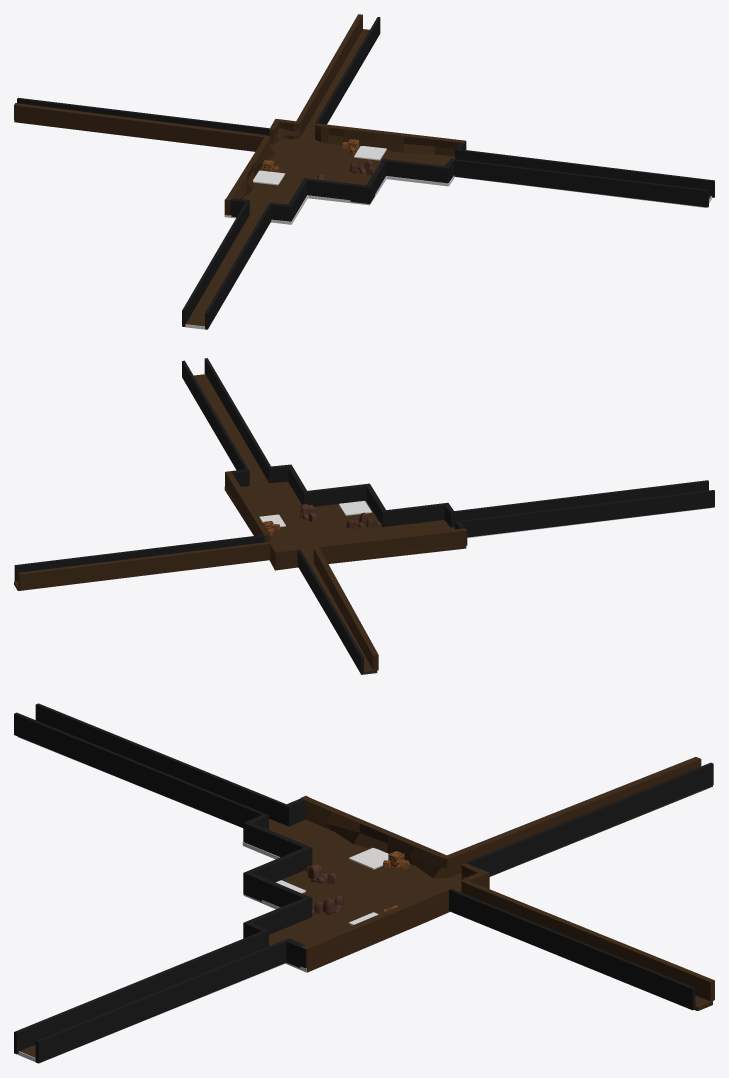
The model's file is sala13DET.fbx.
3 views of the same model, one above another, from view 1: azimuth 30°, elevation 25°; view 2: azimuth 150°, elevation 25°; view 3: azimuth 270°, elevation 25° (orthographic). The views are drawn at different scales.
Visible parts, largest first — view 1: paredes_der_abajo14, paredes_izq_arriba14, suelo 14, conjunto_trampas; view 2: paredes_der_abajo14, paredes_izq_arriba14, suelo 14, conjunto_rocas, conjunto_trampas; view 3: paredes_der_abajo14, paredes_izq_arriba14, suelo 14, conjunto_rocas, conjunto_trampas.
Part boxes in pixels (box(x1,y1,x2,y2)): paredes_der_abajo14: box(17, 17, 714, 329); paredes_izq_arriba14: box(14, 14, 465, 215); suelo 14: box(14, 29, 711, 329); conjunto_trampas: box(253, 146, 386, 185); paredes_der_abajo14: box(14, 358, 714, 673); paredes_izq_arriba14: box(18, 471, 467, 670); suelo 14: box(14, 374, 711, 674); conjunto_rocas: box(299, 504, 381, 528); conjunto_trampas: box(259, 501, 371, 527); paredes_der_abajo14: box(14, 703, 713, 1063); paredes_izq_arriba14: box(301, 757, 714, 1001); suelo 14: box(17, 736, 712, 1061); conjunto_rocas: box(306, 864, 344, 915); conjunto_trampas: box(276, 848, 388, 925).
Bounding box in the file's own units: 13659 × 431 × 11938.
